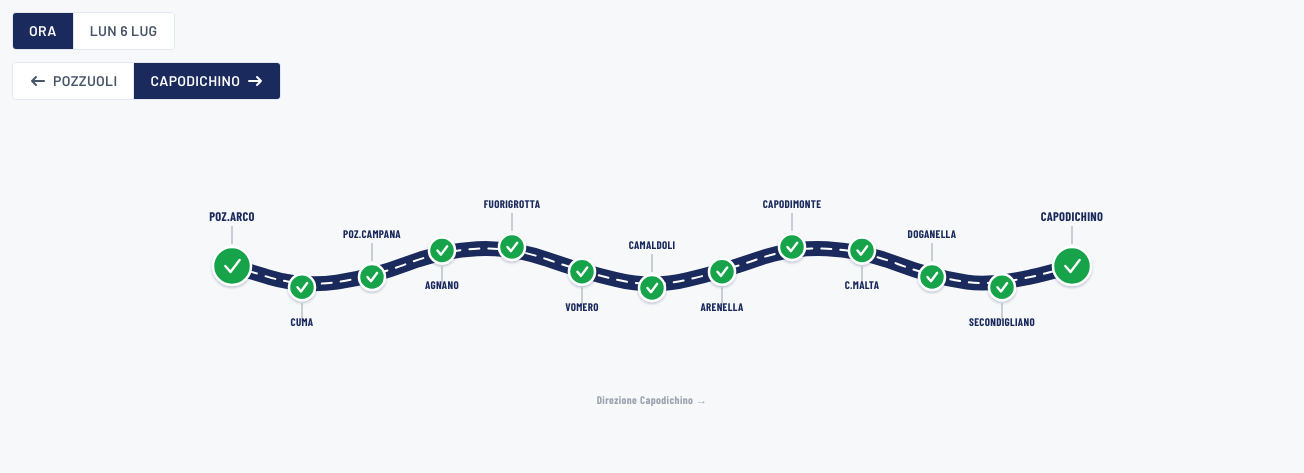
it: MapViewSwitcher › selezionando la tab data, la mappa mostra lo stato di quella serata e compare il banner di anteprima
Step 1. Click the button "lun 6 lug" → (123,31), box [73,13,174,49]
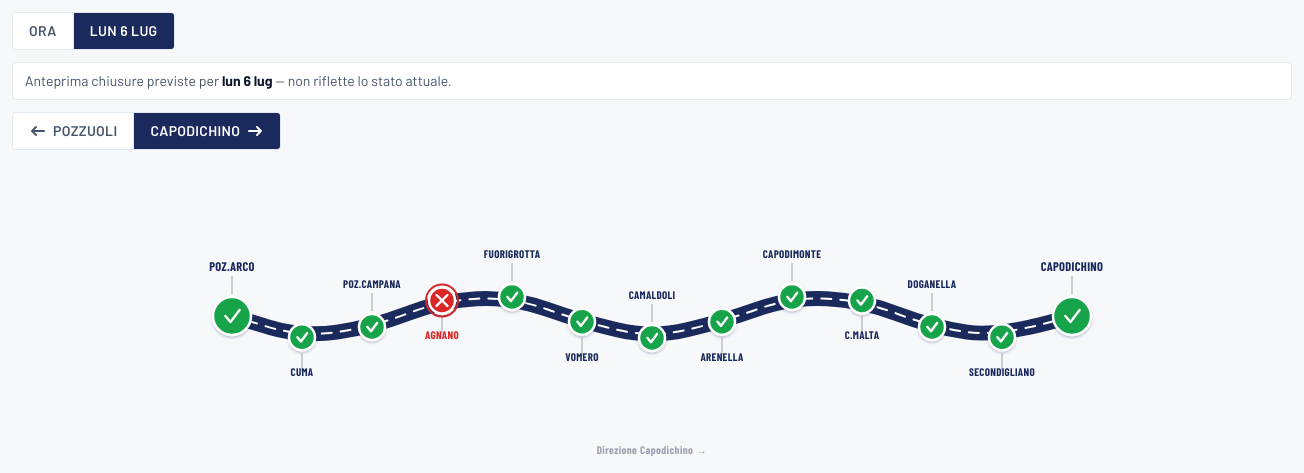
Now the message shows "lun 6 lug", box [222,72,273,89]
